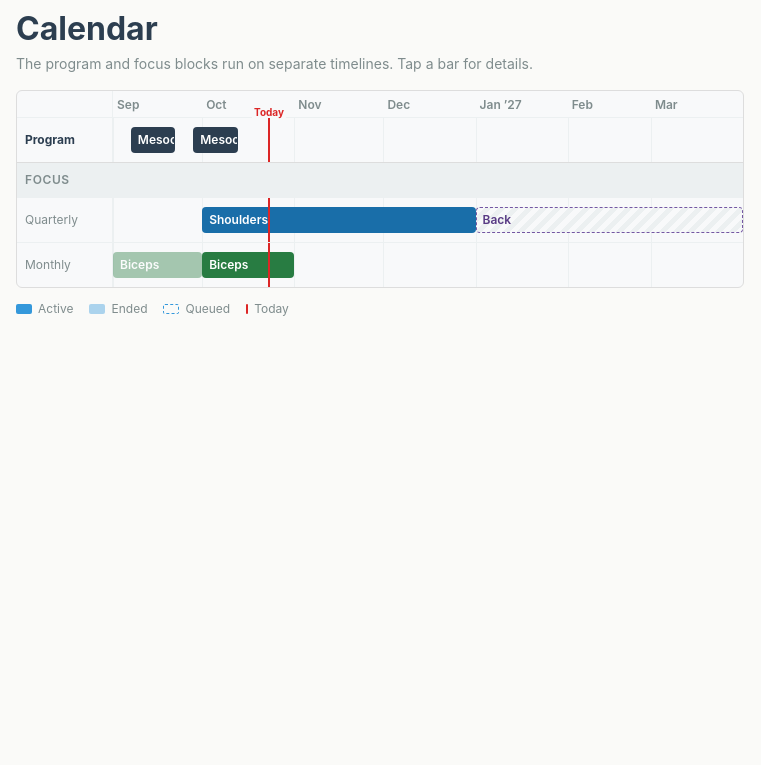
Scenario: FocusCalendar › prompts to renew a focus block ending within ten days, and queues the renewal at its priority
What coordinates should you click on to do the following:
click the button with aria-label "Biceps focus block, October 2026, active"
I would click on:
 (248, 265)
Its box is left=202, top=252, right=294, bottom=278.
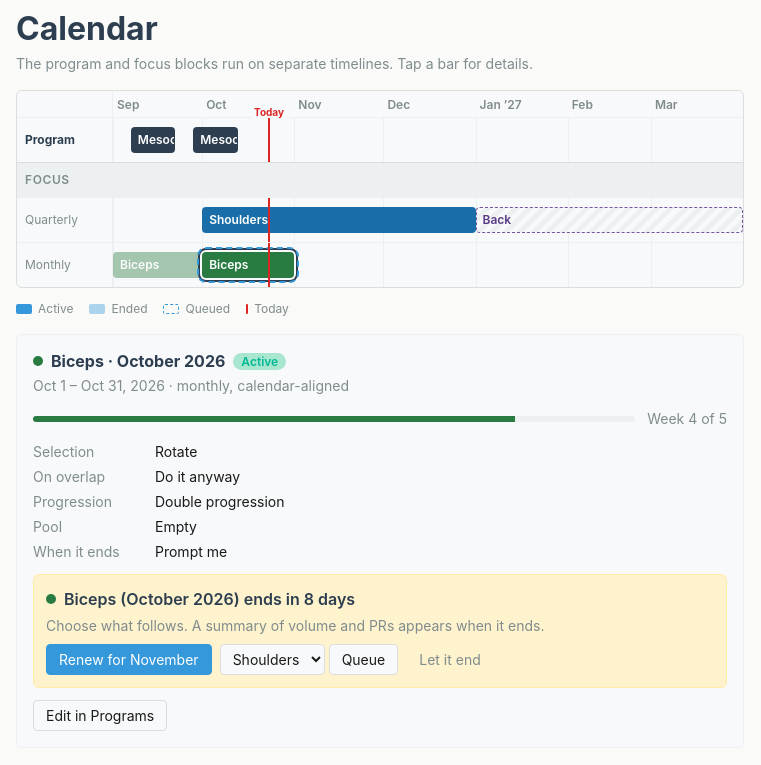
Now the text "Biceps (October 2026) ends in 8 days" is shown, box left=46, top=589, right=355, bottom=609
What coordinates should you click on to do the following:
click the button "Renew for November"
I would click on:
 (129, 660)
Its box is left=46, top=644, right=212, bottom=675.
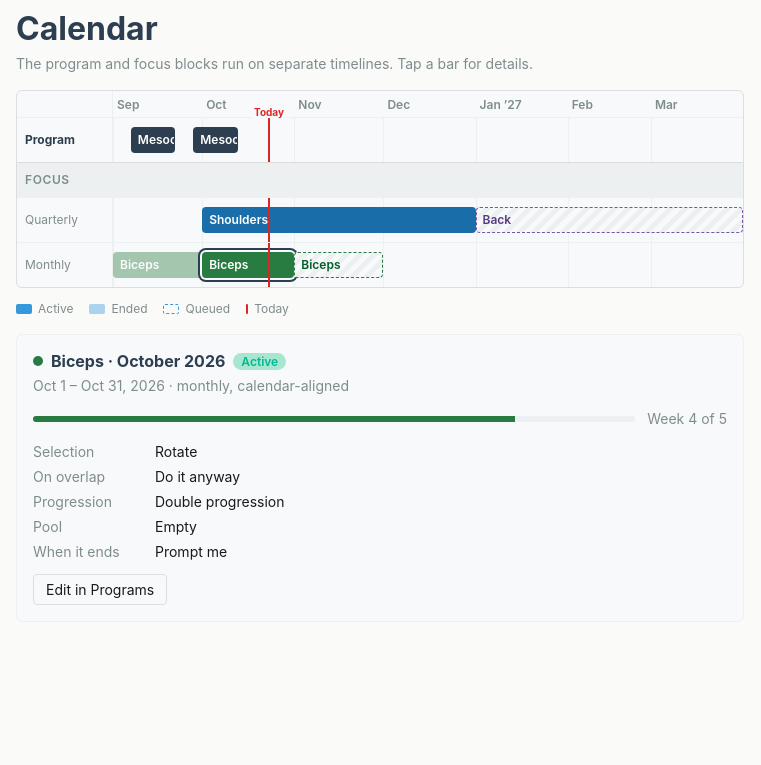
Now the button with aria-label "Biceps focus block, November 2026, queued" is shown, box left=294, top=252, right=383, bottom=278
Now the text "ends in 8 days" is gone
